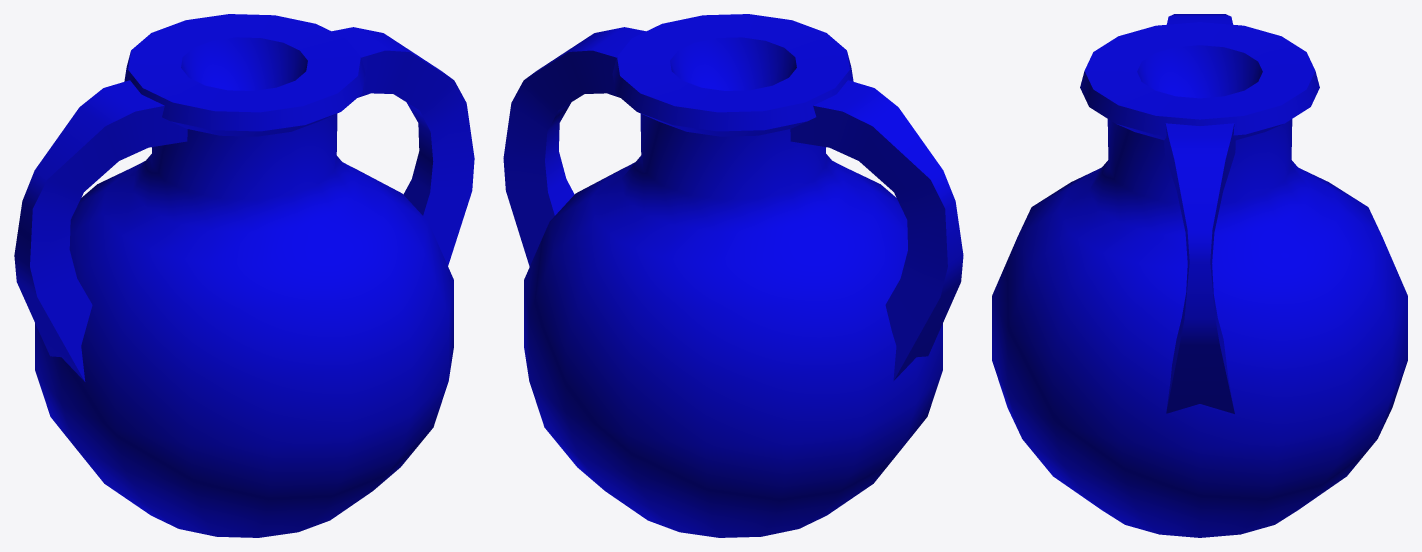
Rendered from SM_Jar_02.fbx.
The picture shows the model from 3 angles, left to right: view 1: azimuth 30°, elevation 25°; view 2: azimuth 150°, elevation 25°; view 3: azimuth 270°, elevation 25°; orthographic projection.
Parts seen in each view (by area): view 1: Jar_02; view 2: Jar_02; view 3: Jar_02.
Boxes of the visible parts, box(x1,y1,x2,y2) form: Jar_02: box(14, 14, 474, 537); Jar_02: box(503, 14, 963, 537); Jar_02: box(992, 14, 1407, 537).
Size of the model in its own units: 83.51 by 77.1 by 68.79.
